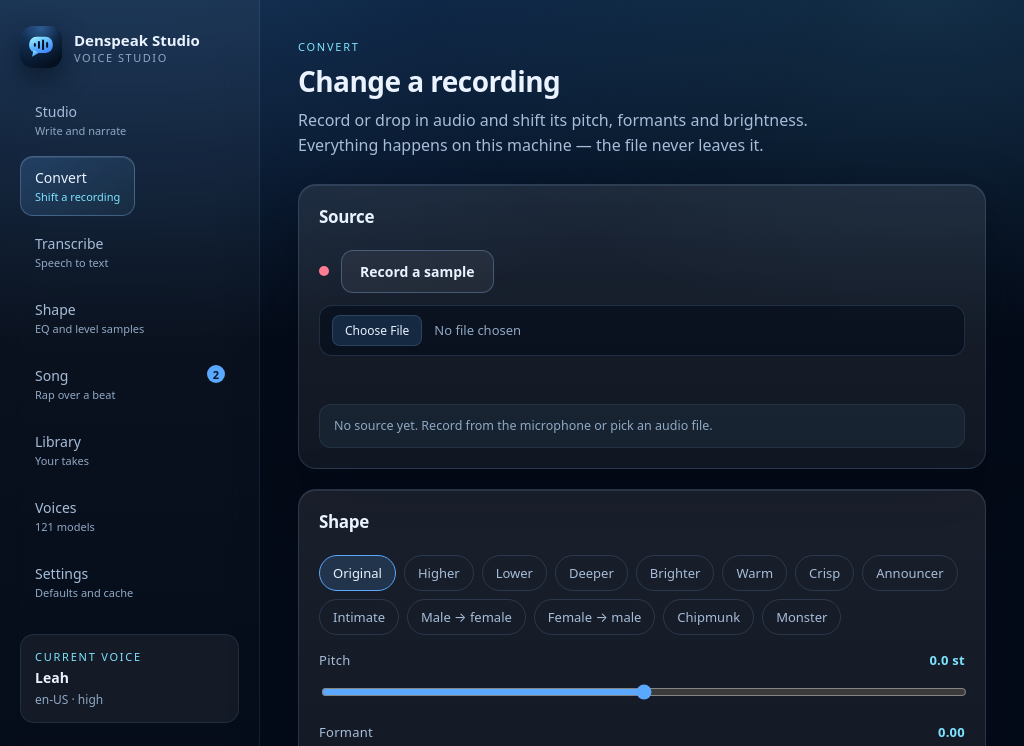
Scenario: hand-off navigation › keeps every row when the store refuses a clear, and leaves focus where the reader has it
The image size is (1024, 746).
Click the button named "2 takes waiting for Song" at [216, 374], box [207, 365, 225, 383]
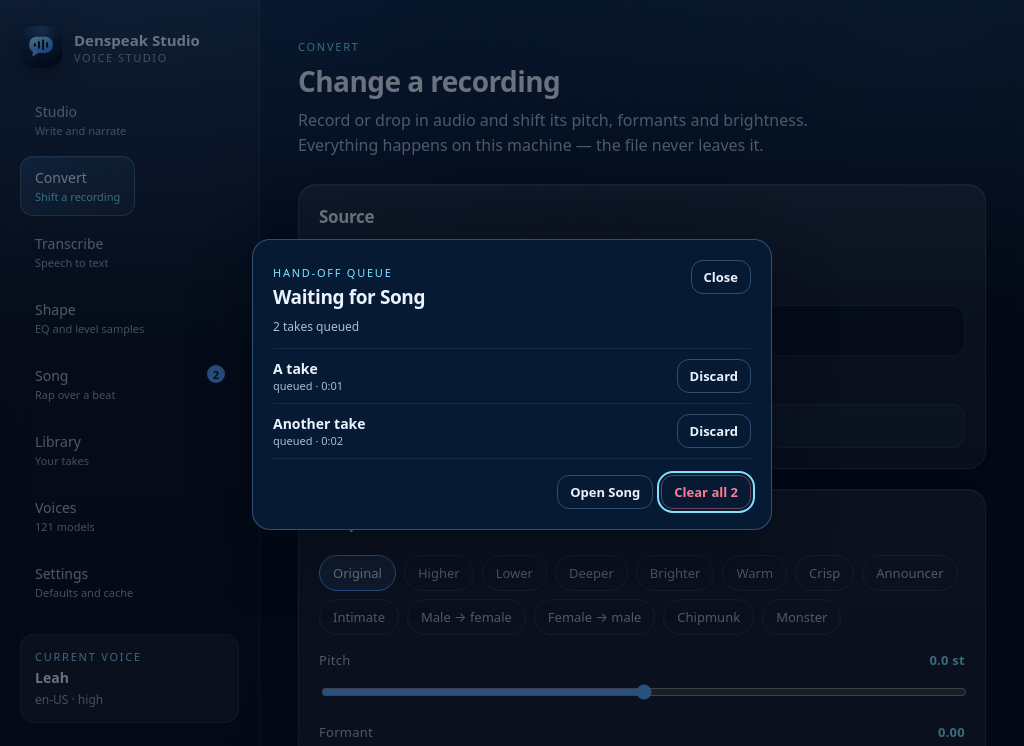
Click the button "Clear all 2" at [706, 492], box [661, 474, 751, 508]
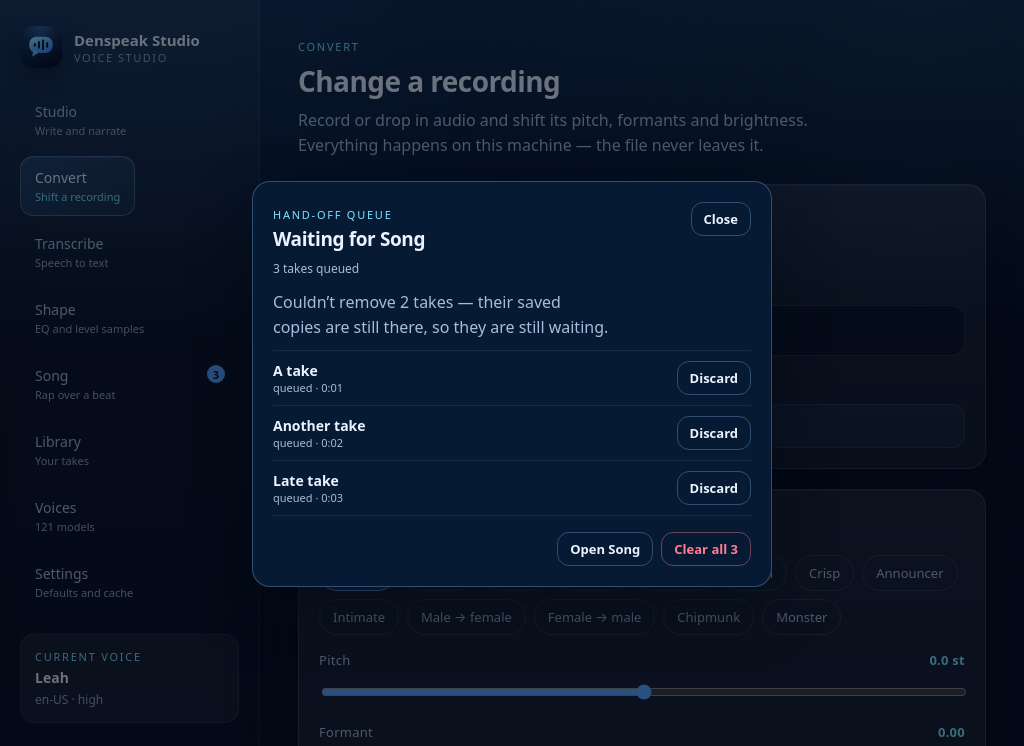
Check: the dialog "Waiting for Song" shows "A take", box [273, 361, 318, 380]
Check: the dialog "Waiting for Song" shows "Another take", box [273, 416, 366, 435]
Check: the dialog "Waiting for Song" shows "Couldn’t remove 2 takes", box [273, 291, 608, 338]
